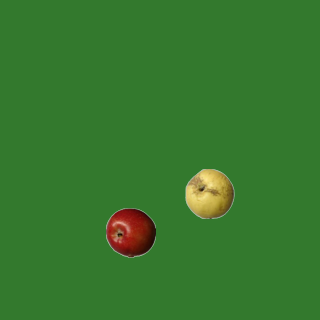Apple Braeburn: (105, 207, 155, 257)
Apple Golden 1: (184, 168, 234, 218)
